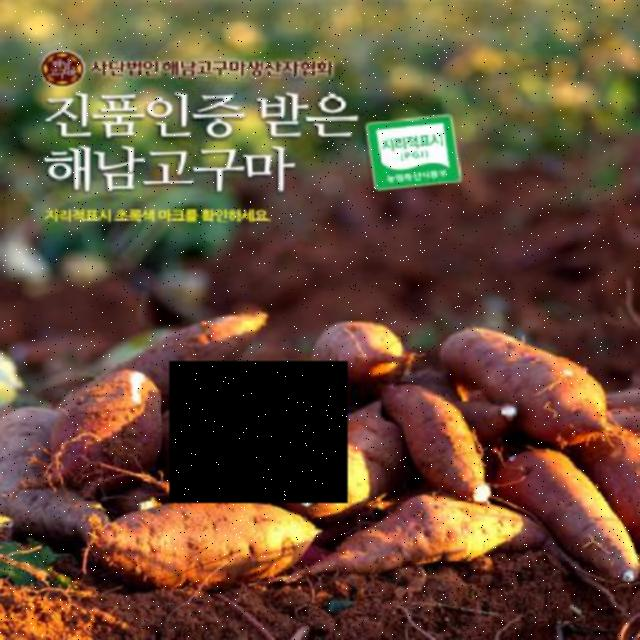Sweet_Potato: (169, 360, 348, 503)
